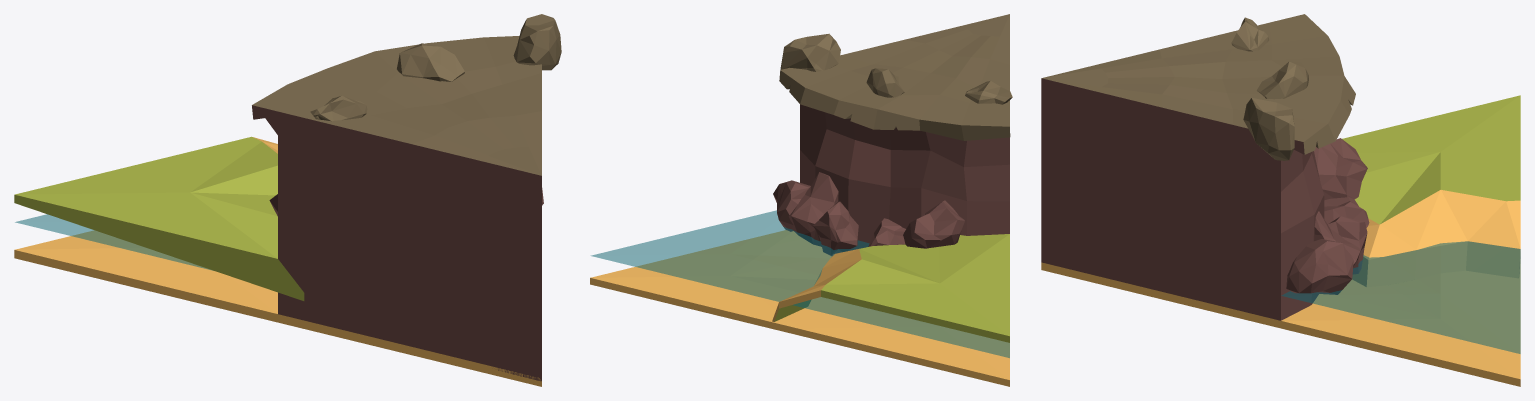
The model's file is tile10.glb.
3 renders of one model, left to right at view 1: azimuth 30°, elevation 25°; view 2: azimuth 150°, elevation 25°; view 3: azimuth 270°, elevation 25°, orthographic. The views are drawn at different scales.
Parts seen in each view (by area): view 1: hill8.002, ground.009, sand7.002, bush2.005, bush1.005, water4.003, bush3.005; view 2: hill8.002, sand7.002, ground.009, water4.003, rock1.003, rock4.003, bush2.005, rock5.003, rock0.015, bush1.005, bush3.005, rock3.003; view 3: hill8.002, ground.009, sand7.002, water4.003, rock0.015, bush2.005, rock1.003, bush1.005, rock5.003, rock3.003, bush3.005, rock4.003.
Part boxes in pixels (bbox=[...]): hill8.002: bbox=[252, 36, 541, 381]; ground.009: bbox=[14, 136, 304, 300]; sand7.002: bbox=[14, 230, 541, 386]; bush2.005: bbox=[513, 14, 561, 70]; bush1.005: bbox=[397, 43, 464, 81]; water4.003: bbox=[15, 214, 212, 270]; bush3.005: bbox=[310, 95, 367, 121]; hill8.002: bbox=[779, 14, 1010, 251]; sand7.002: bbox=[590, 230, 1009, 386]; ground.009: bbox=[772, 234, 1009, 342]; water4.003: bbox=[591, 210, 1009, 357]; rock1.003: bbox=[903, 200, 964, 248]; rock4.003: bbox=[788, 172, 838, 246]; bush2.005: bbox=[780, 33, 840, 71]; rock5.003: bbox=[813, 201, 858, 255]; rock0.015: bbox=[773, 180, 810, 231]; bush1.005: bbox=[866, 68, 904, 97]; bush3.005: bbox=[965, 80, 1012, 104]; rock3.003: bbox=[868, 218, 905, 246]; hill8.002: bbox=[1041, 14, 1355, 320]; ground.009: bbox=[1342, 95, 1520, 287]; sand7.002: bbox=[1041, 259, 1520, 386]; water4.003: bbox=[1281, 241, 1520, 353]; rock0.015: bbox=[1286, 239, 1353, 294]; bush2.005: bbox=[1243, 98, 1294, 160]; rock1.003: bbox=[1314, 138, 1367, 200]; bush1.005: bbox=[1256, 61, 1308, 99]; rock5.003: bbox=[1328, 216, 1367, 274]; rock3.003: bbox=[1324, 196, 1369, 227]; bush3.005: bbox=[1231, 17, 1269, 51]; rock4.003: bbox=[1314, 211, 1360, 267].
Size of the model in its own units: 1 by 0.4422 by 0.866.
